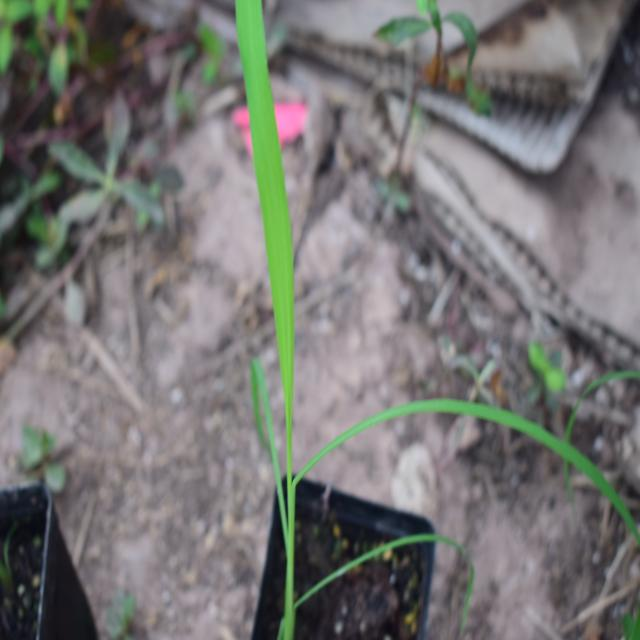barnyard_grass: (224, 0, 613, 575)
